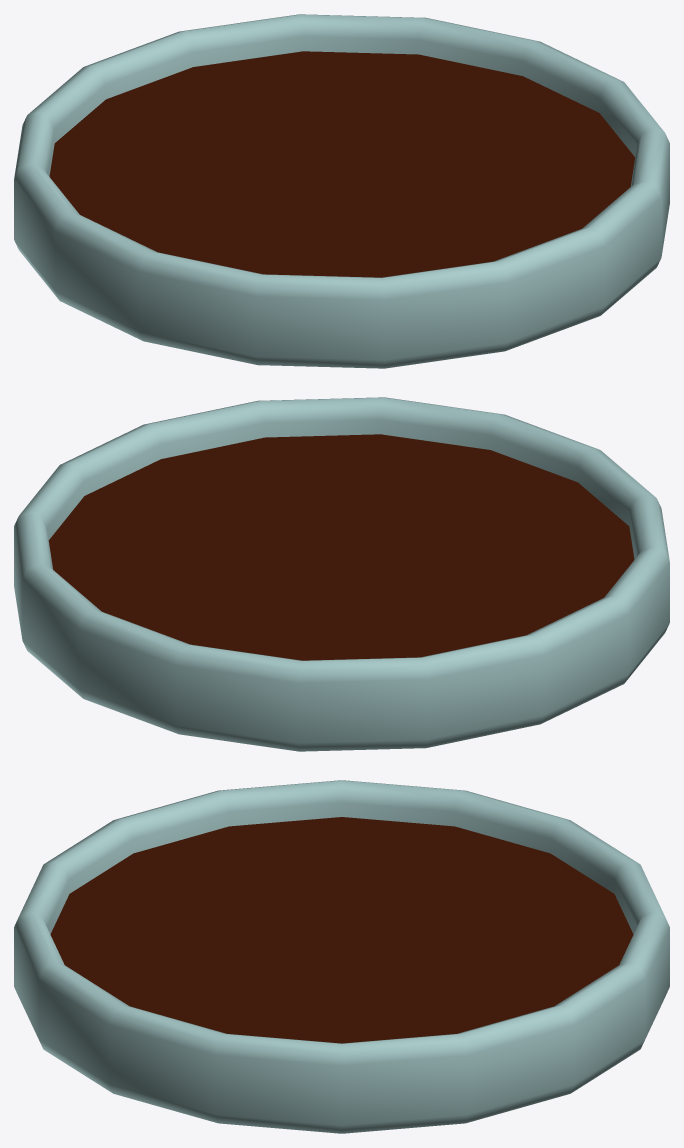
The model's file is LastLuna_Model_Station_Farm.fbx.
3 views of the same model, one above another, from view 1: azimuth 30°, elevation 25°; view 2: azimuth 150°, elevation 25°; view 3: azimuth 270°, elevation 25° (orthographic).
Parts seen in each view (by area): view 1: Dirt001, Petri_Dish001; view 2: Dirt001, Petri_Dish001; view 3: Dirt001, Petri_Dish001.
Part boxes in pixels (x1,y1,x2,y2): Dirt001: (49, 51, 635, 277); Petri_Dish001: (14, 14, 669, 368); Dirt001: (48, 434, 634, 660); Petri_Dish001: (14, 397, 669, 751); Dirt001: (50, 817, 633, 1043); Petri_Dish001: (14, 780, 669, 1133).
Size of the model in its own units: 100 by 15 by 100.
